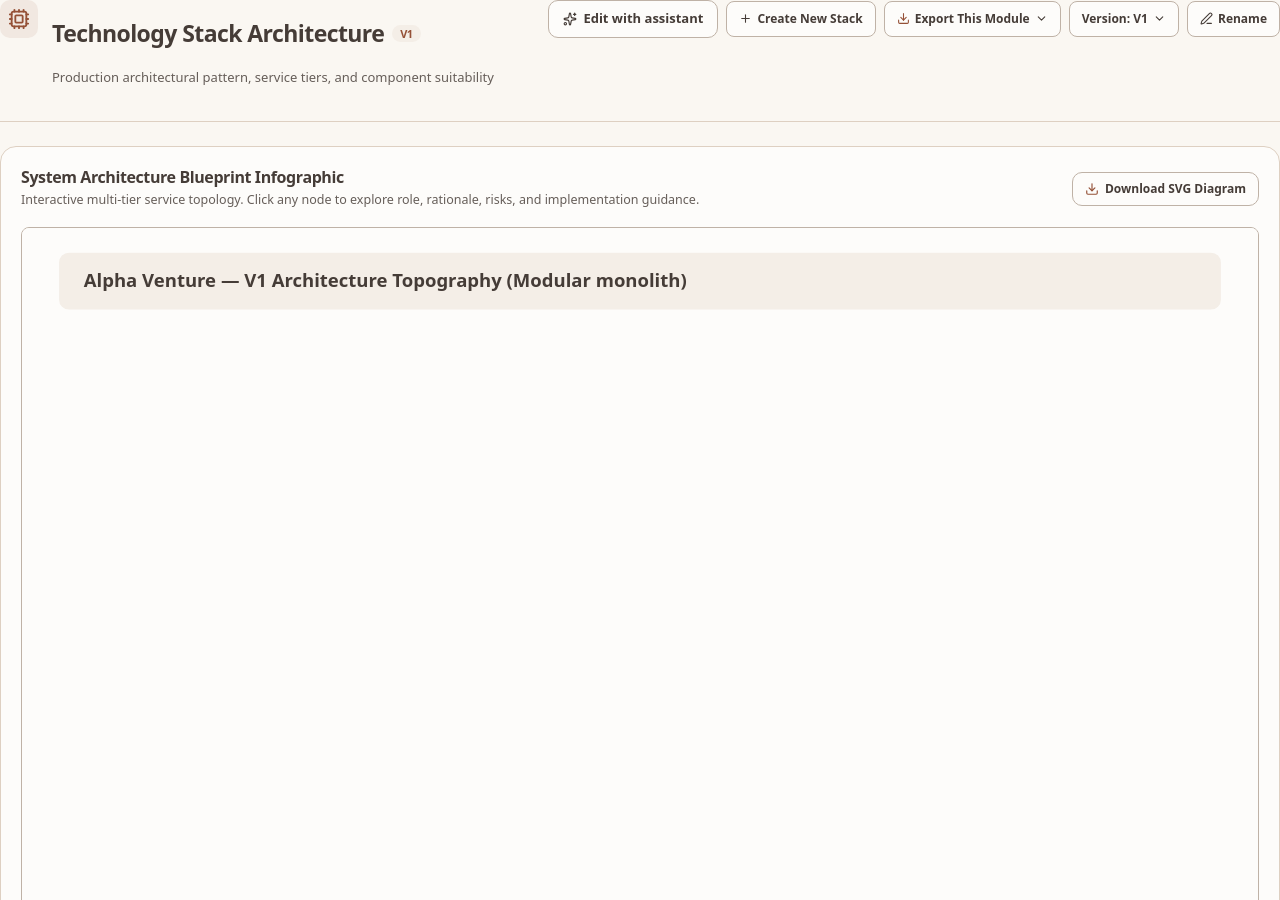
Scenario: Phase 3 & 5: Module-Scoped Generation Progress › Create New Stack opens its preference form without generating before submit
Click the button "Create New Stack": {"x": 801, "y": 19} [726,1,876,37]
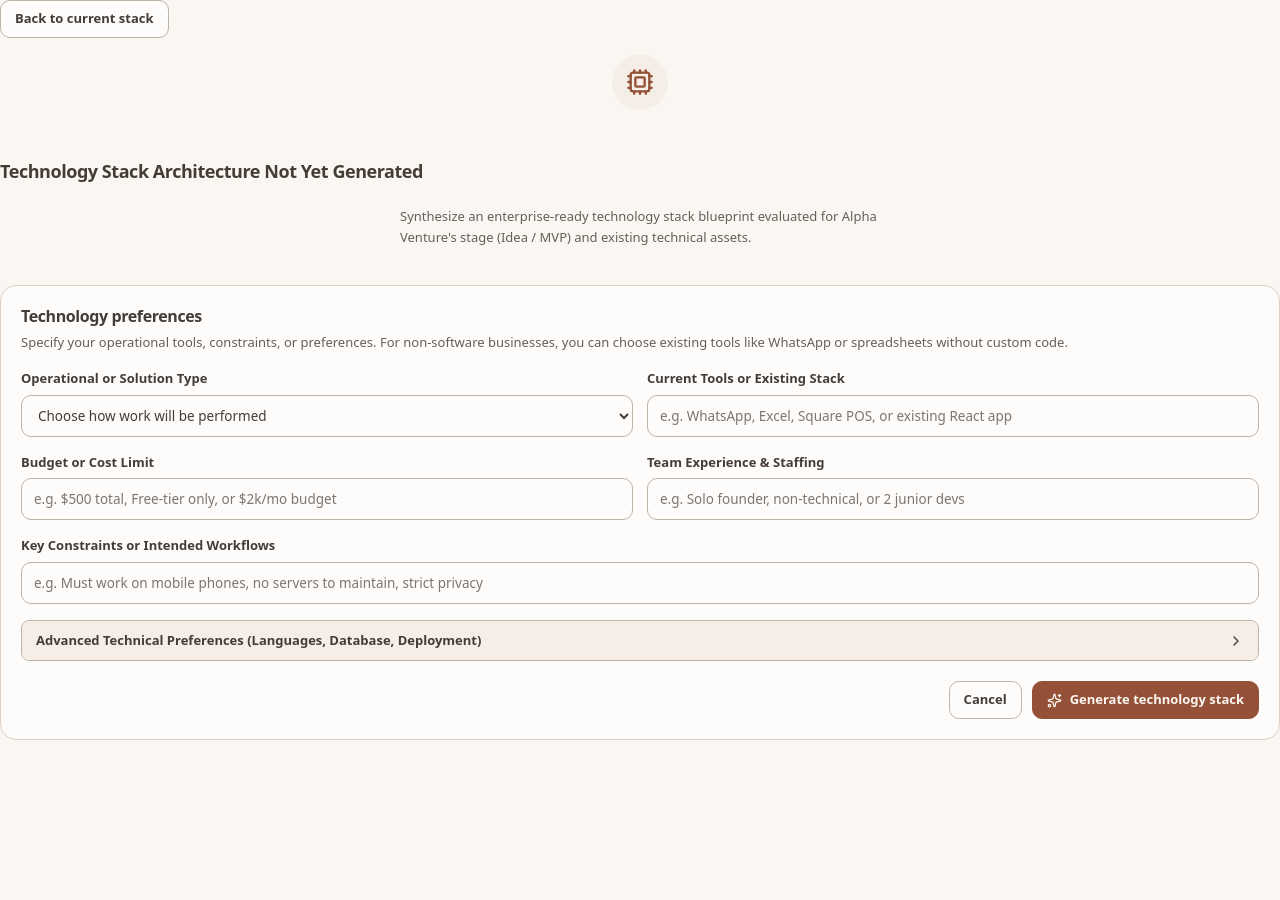
Now the heading "Technology preferences" is shown, box [21,305,202,327]
Now the button "Generate technology stack" is shown, box [1032,681,1259,719]
